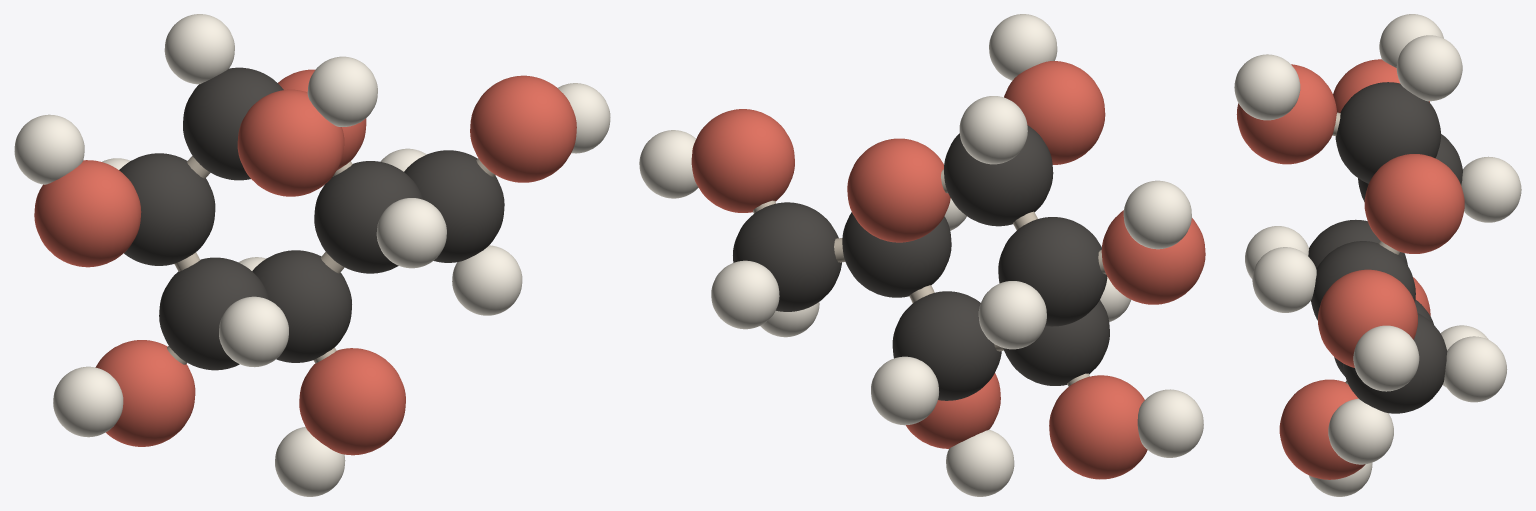
File: glucose.glb
3 views of the same model, side by side, from view 1: azimuth 30°, elevation 25°; view 2: azimuth 150°, elevation 25°; view 3: azimuth 270°, elevation 25° (orthographic). The views are drawn at different scales.
Parts seen in each view (by area): view 1: atom-O-11, atom-O-9, atom-O-7, atom-O-6, atom-C-1, atom-C-4, atom-C-2, atom-O-8, atom-C-3, atom-C-5, atom-C-0, atom-H-21 (+9 smaller); view 2: atom-O-11, atom-O-10, atom-O-8, atom-C-1, atom-C-5, atom-C-3, atom-C-0, atom-O-6, atom-O-7, atom-C-4, atom-C-2, atom-H-18 (+11 smaller); view 3: atom-O-10, atom-C-0, atom-O-11, atom-O-6, atom-O-9, atom-C-5, atom-H-23, atom-H-19, atom-H-12, atom-H-16, atom-H-18, atom-H-17 (+9 smaller).
Boxes of the visible parts, box(x1,y1,x2,y2) form: atom-O-11: box(470, 75, 576, 182); atom-O-9: box(299, 348, 405, 455); atom-O-7: box(34, 160, 141, 267); atom-O-6: box(237, 89, 344, 196); atom-C-1: box(119, 153, 215, 265); atom-C-4: box(314, 161, 423, 273); atom-C-2: box(159, 257, 269, 370); atom-O-8: box(95, 340, 195, 446); atom-C-3: box(252, 250, 351, 362); atom-C-5: box(404, 150, 504, 262); atom-C-0: box(183, 67, 283, 180); atom-H-21: box(53, 366, 123, 437); atom-O-11: box(691, 109, 794, 212); atom-O-10: box(847, 138, 950, 242); atom-O-8: box(1049, 375, 1147, 479); atom-C-1: box(998, 217, 1107, 326); atom-C-5: box(733, 202, 841, 311); atom-C-3: box(892, 291, 1001, 400); atom-C-0: box(944, 125, 1053, 226); atom-O-6: box(1004, 61, 1105, 164); atom-O-7: box(1101, 210, 1205, 304); atom-C-4: box(842, 212, 951, 297); atom-C-2: box(1003, 300, 1109, 385); atom-H-18: box(711, 260, 779, 329); atom-O-10: box(1364, 154, 1464, 253); atom-C-0: box(1335, 82, 1440, 183); atom-O-11: box(1318, 269, 1417, 367); atom-O-6: box(1236, 64, 1336, 164); atom-O-9: box(1279, 379, 1365, 479); atom-C-5: box(1343, 313, 1447, 413); atom-H-23: box(1353, 325, 1419, 391); atom-H-19: box(1234, 54, 1300, 120); atom-H-12: box(1396, 35, 1462, 101); atom-H-16: box(1252, 247, 1316, 312); atom-H-18: box(1444, 336, 1507, 402); atom-H-17: box(1328, 398, 1393, 464).
Size of the model in its own units: 4.69 by 3.63 by 2.18.
